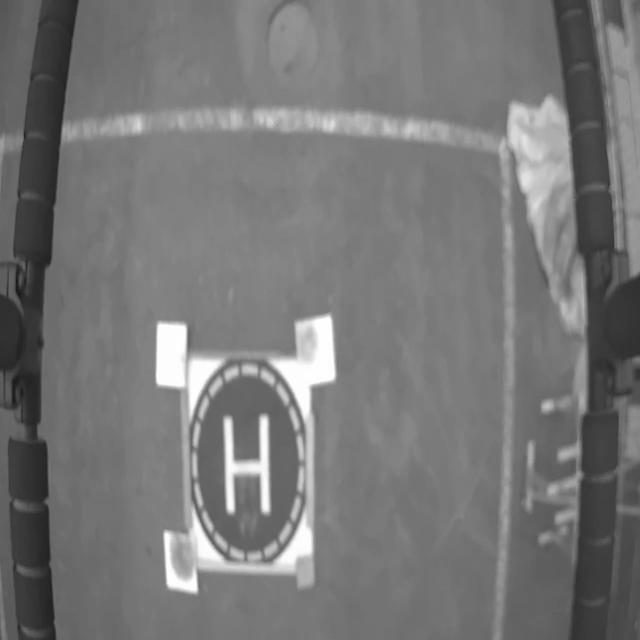Helipad: (224, 412, 272, 518)
